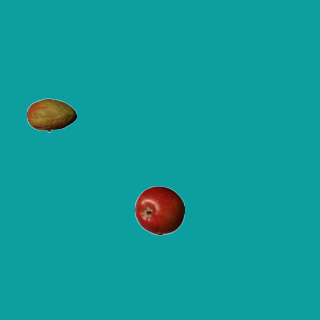Apple Braeburn: (134, 185, 184, 235)
Papaya: (26, 90, 76, 140)
